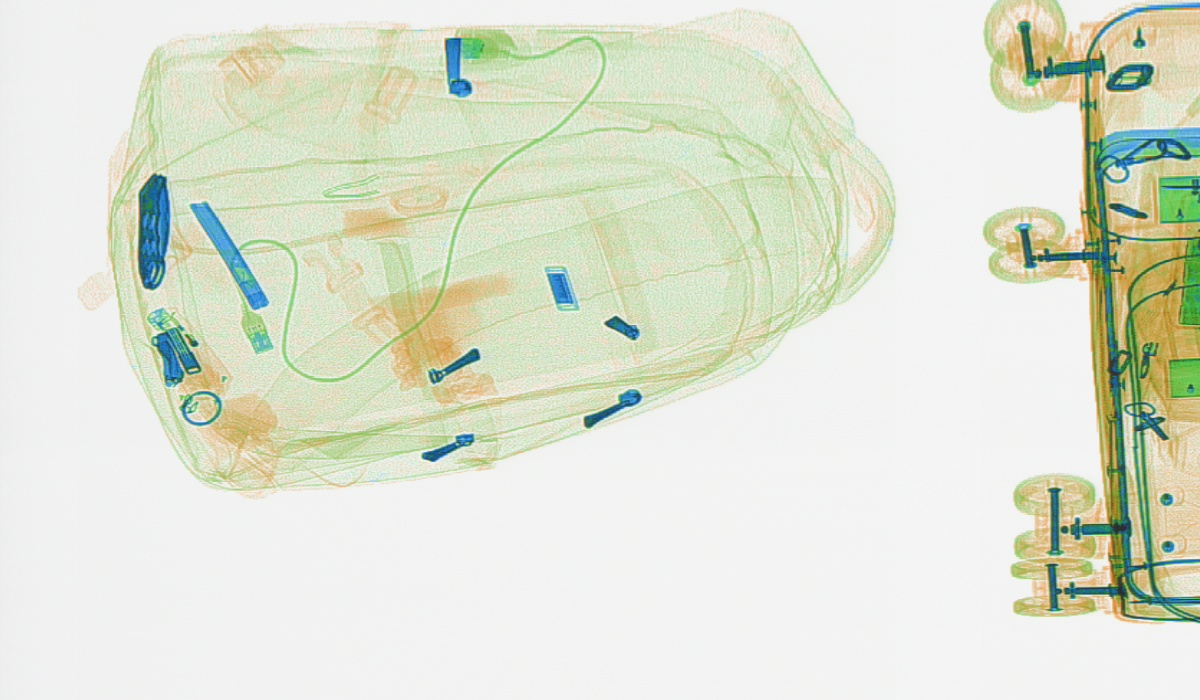knife: (187, 200, 269, 311), (133, 169, 171, 291)
lighter: (143, 305, 233, 390)
